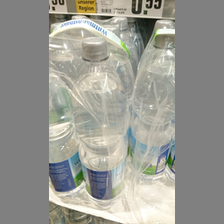water: (72, 36, 126, 207), (128, 28, 175, 186), (49, 56, 83, 201)
